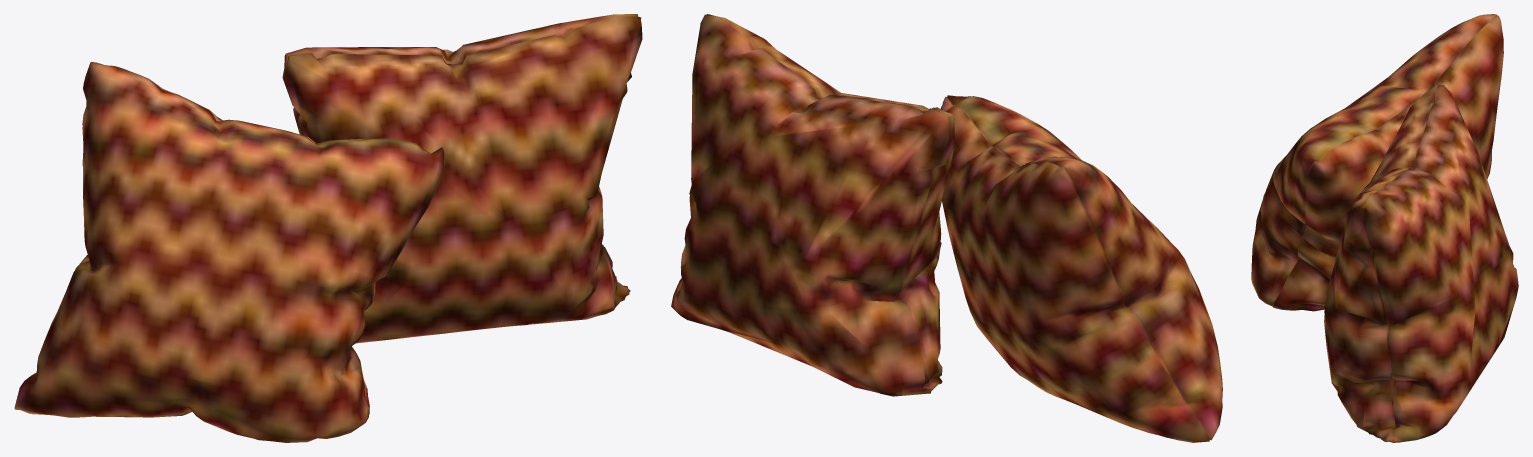
The picture shows the model from 3 angles, left to right: view 1: azimuth 30°, elevation 25°; view 2: azimuth 150°, elevation 25°; view 3: azimuth 270°, elevation 25°; orthographic projection. The views are drawn at different scales.
Visible parts, largest first — view 1: throw_pillows_01_pillow01, throw_pillows_01_pillow02; view 2: throw_pillows_01_pillow02, throw_pillows_01_pillow01; view 3: throw_pillows_01_pillow02, throw_pillows_01_pillow01.
Boxes of the visible parts, <box> form: throw_pillows_01_pillow01: <box>14,62,444,442</box>; throw_pillows_01_pillow02: <box>282,14,642,343</box>; throw_pillows_01_pillow02: <box>671,14,954,396</box>; throw_pillows_01_pillow01: <box>940,95,1222,442</box>; throw_pillows_01_pillow02: <box>1324,84,1518,442</box>; throw_pillows_01_pillow01: <box>1251,14,1503,311</box>.
Bounding box in the file's own units: 0.9401 × 0.4502 × 0.4519.
Materials: 1 (1 with a texture image).
